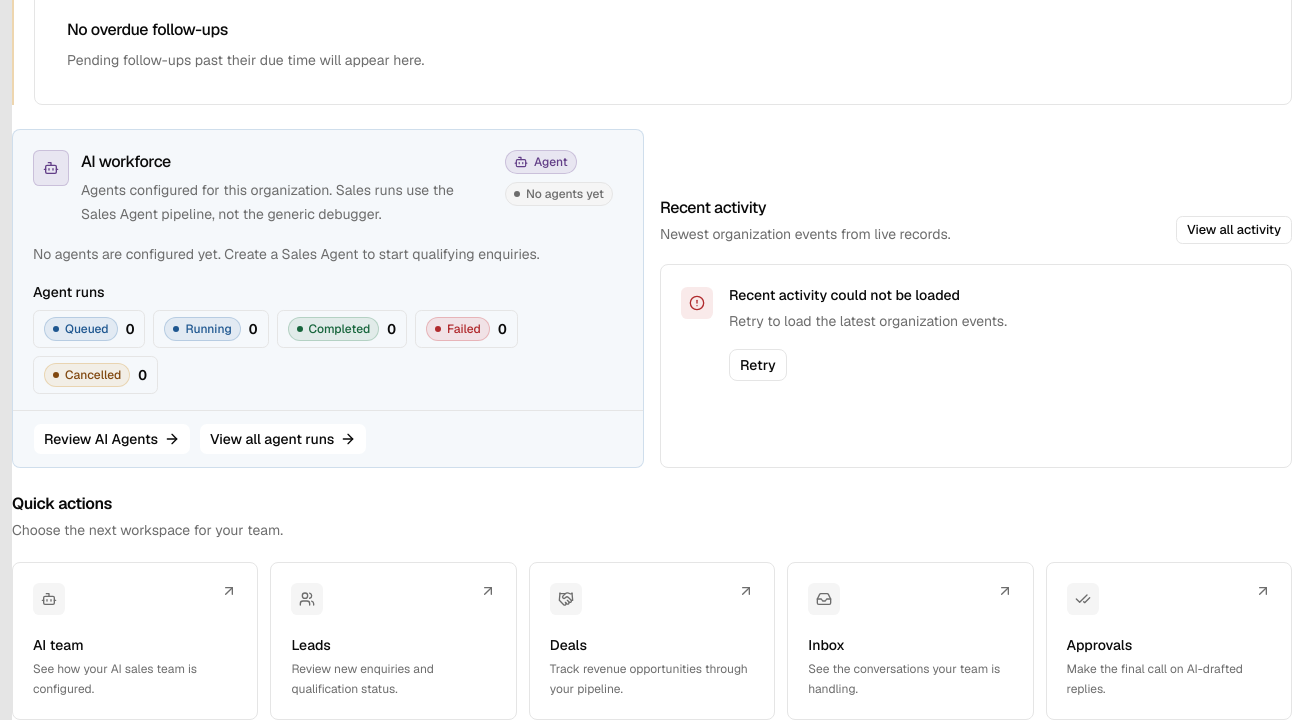
Command Center › shows recent activity error and retry
This screenshot has width=1292, height=720.
(page scrolled)
expect the heading "Recent activity could not be loaded" is shown: met, box x1=729 y1=286 x2=960 y2=304
Step 1. Click the button "Retry" → (758, 364), box x1=729 y1=348 x2=787 y2=380
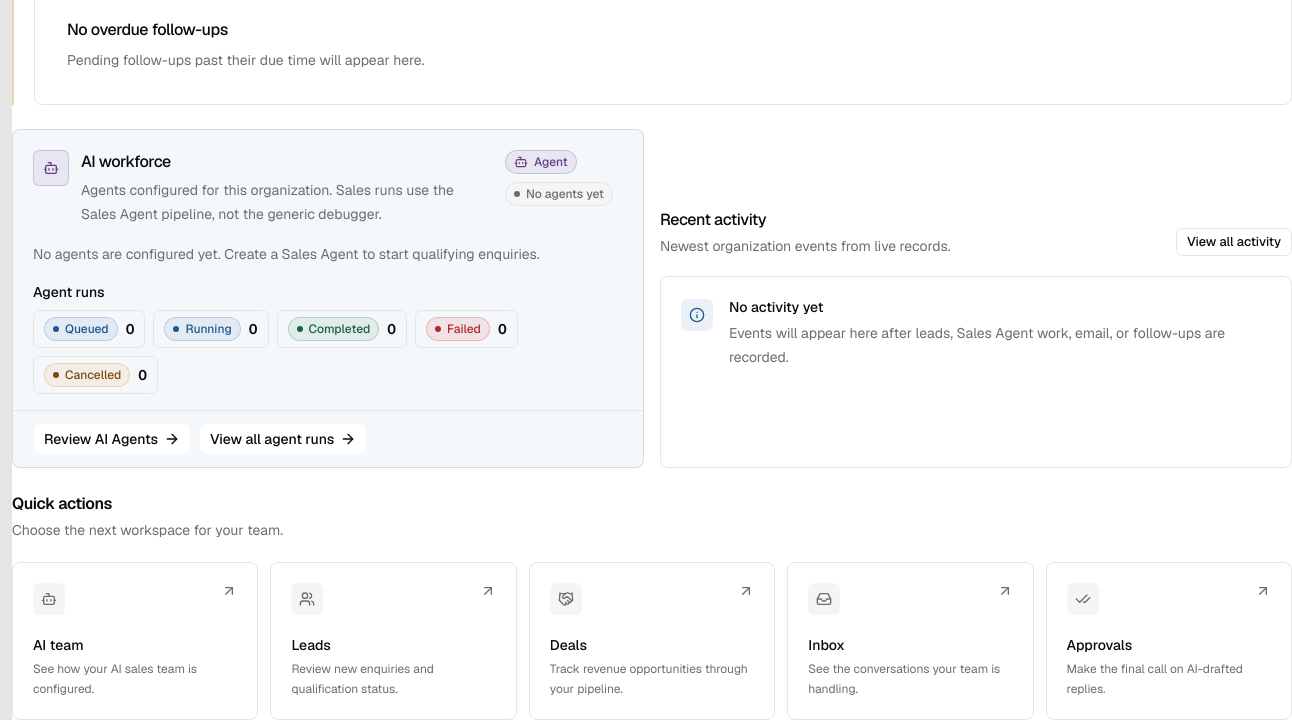
expect the heading "No activity yet" is shown: met, box x1=729 y1=298 x2=824 y2=316
